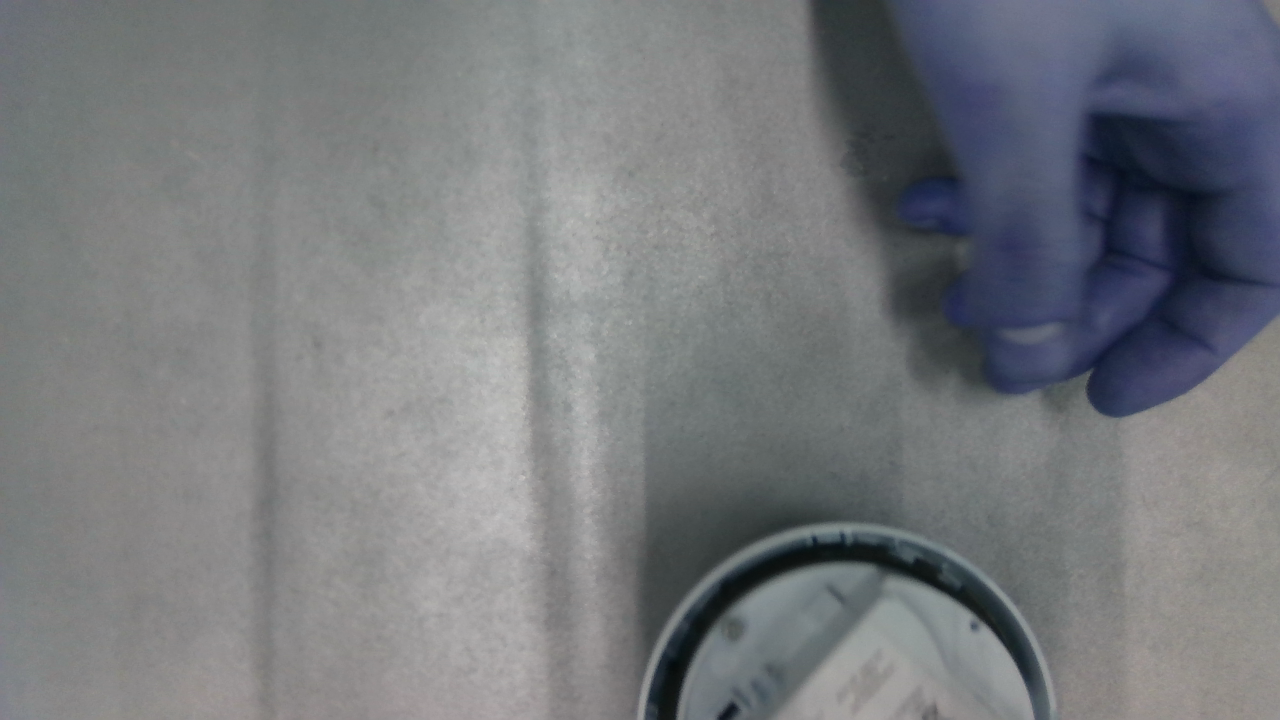HexScrew: (719, 620, 750, 643)
